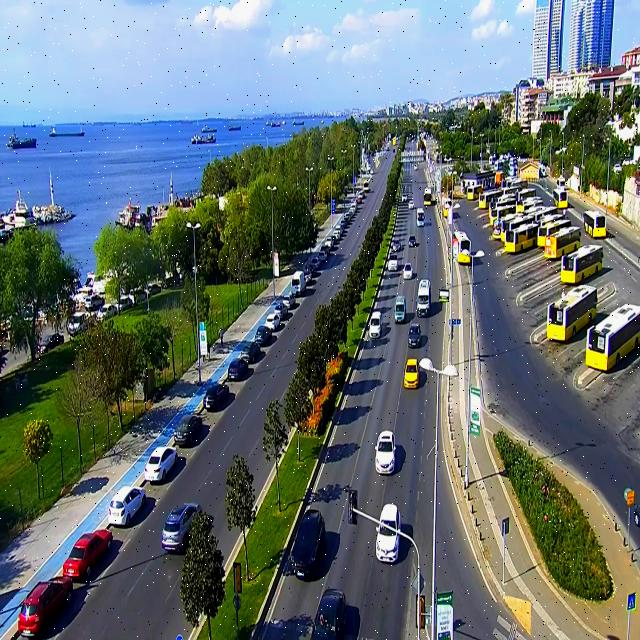car: (61, 527, 110, 587), (162, 500, 203, 558), (289, 511, 322, 583), (373, 504, 404, 564), (374, 431, 398, 475), (401, 354, 423, 393), (412, 277, 431, 317)
